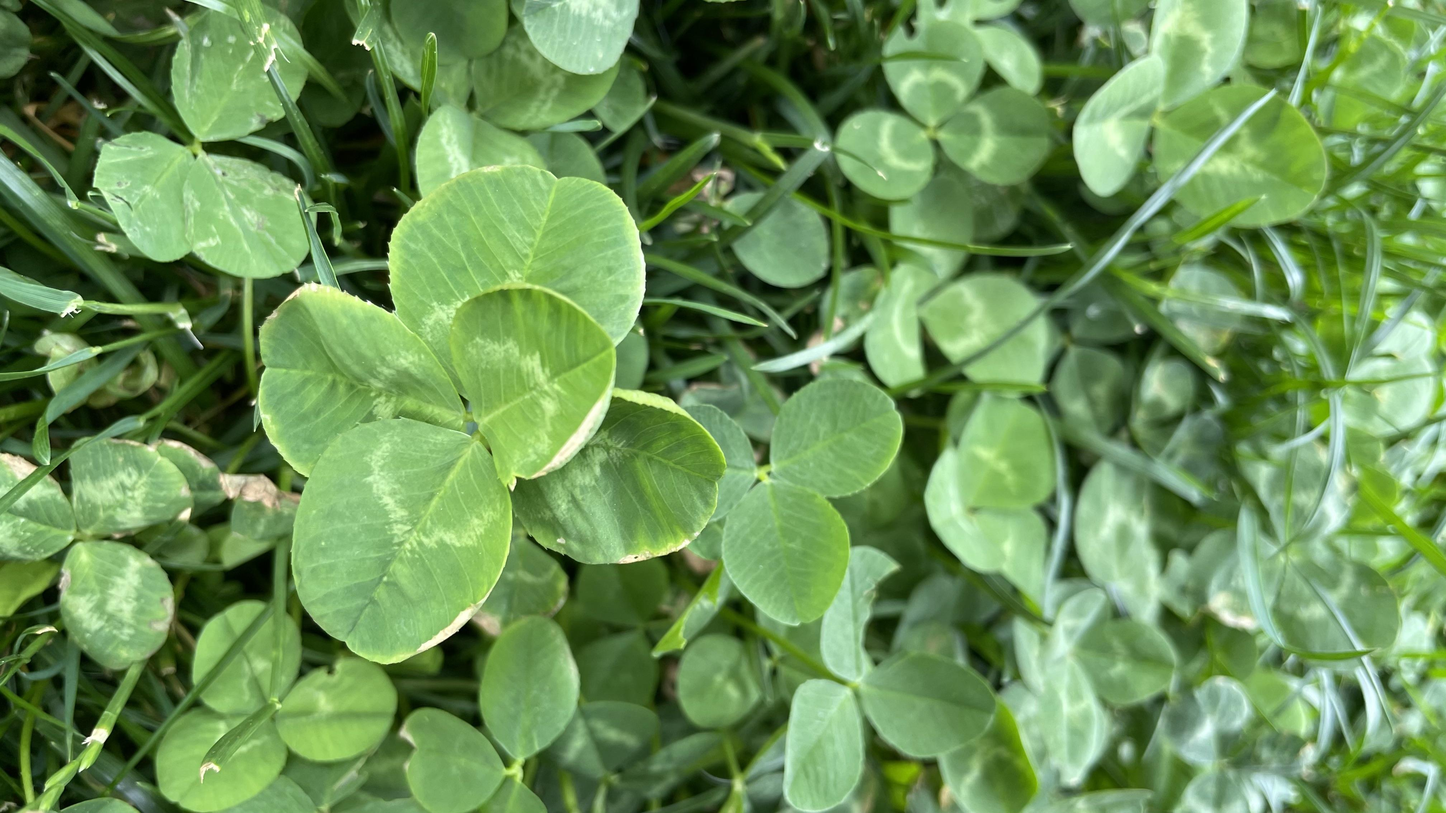5-Leaf-Clovers: (265, 161, 725, 658)
